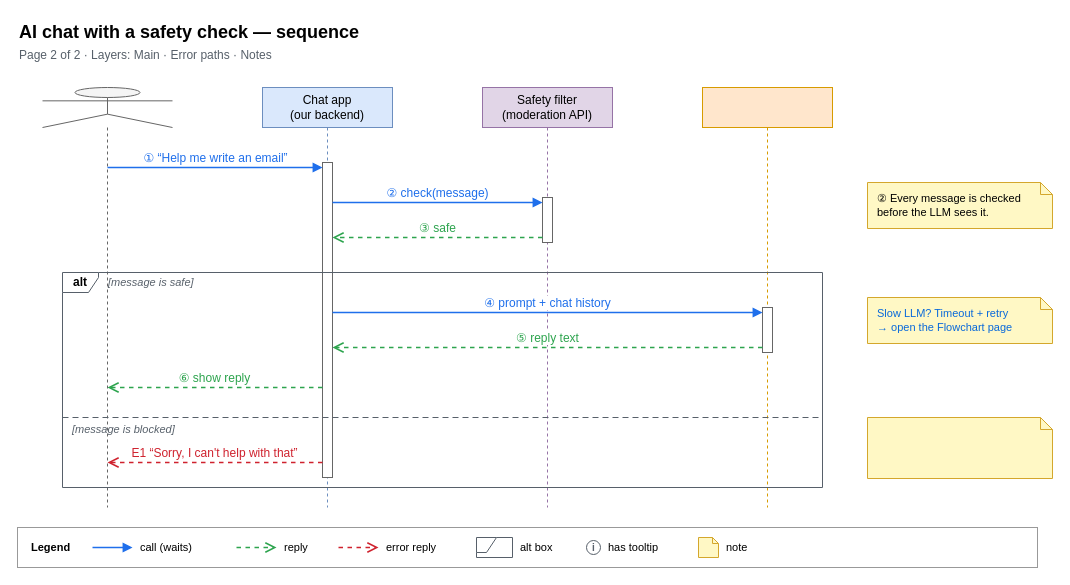
This 1070x585 diagram has some shape labels left out. The shapes that lost their labels are listed below. From the top down, each one's box as (x1, y1, x2, y2) in pixels, then its label:
(42, 86, 172, 508): User
(702, 86, 832, 508): LLM (e.g. GPT / Claude)
(866, 416, 1052, 478): E1 = error step. Its own numbers keep ①–⑥ clean when the layer is hidden.
